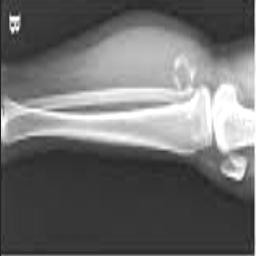cancer: (173, 56, 194, 100)
